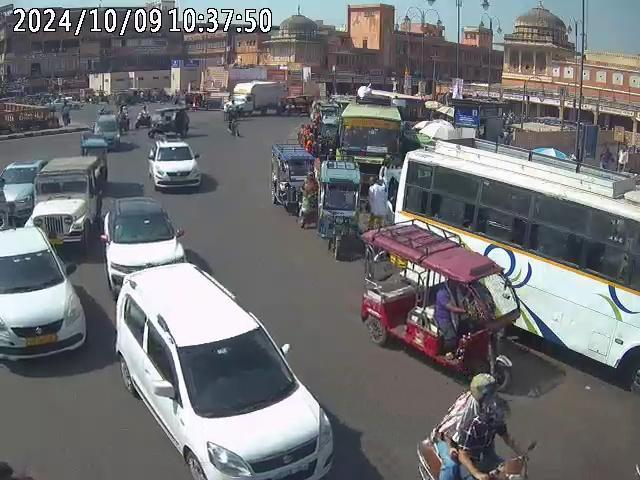auto: (359, 217, 519, 382), (268, 142, 316, 215), (79, 134, 110, 185)
bicycle: (223, 113, 242, 137)
bus: (392, 140, 639, 386), (339, 100, 404, 171)
car: (113, 260, 335, 479), (0, 221, 88, 365), (101, 189, 186, 294), (29, 155, 103, 251), (145, 138, 201, 192), (0, 159, 42, 225), (148, 106, 190, 139), (94, 110, 121, 149)
helmet: (481, 390, 512, 428), (469, 372, 498, 400)
lorry: (227, 81, 286, 117)
person: (367, 175, 392, 226), (300, 170, 321, 230), (296, 122, 313, 152), (600, 144, 617, 173)
scooty-rider: (415, 365, 535, 479)
